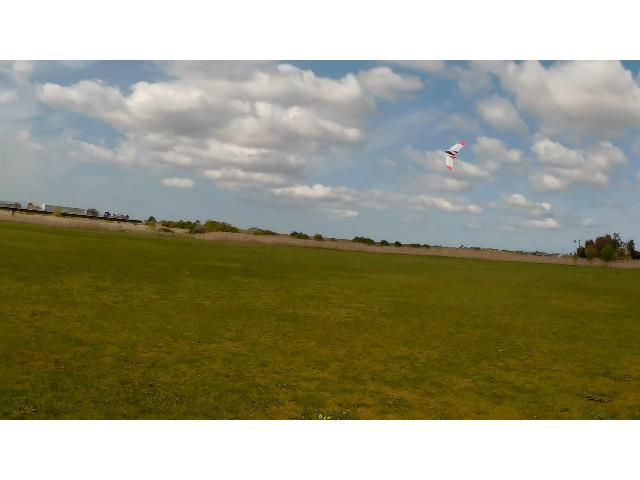Anti-Drone: (444, 142, 466, 170)
